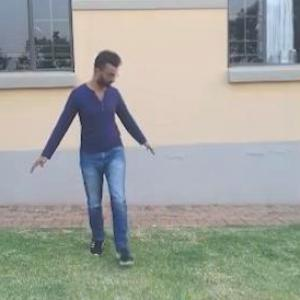land: (27, 39, 182, 268)
